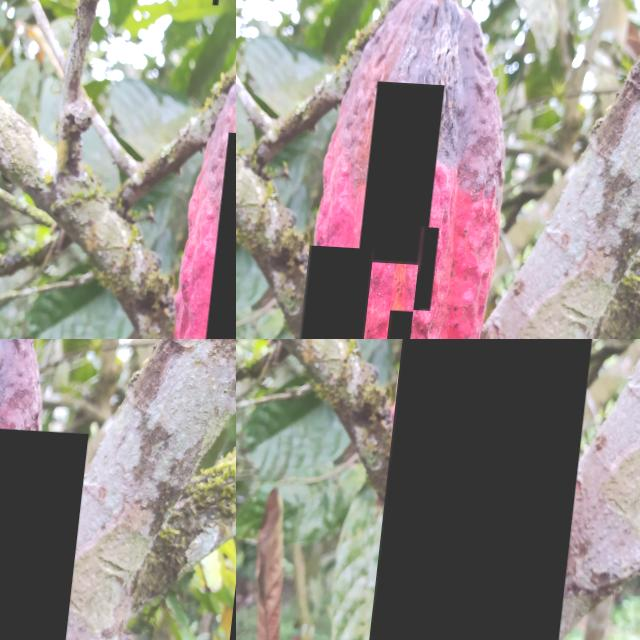Fitoftora: (379, 339, 614, 640), (0, 413, 94, 640), (299, 242, 381, 339), (423, 223, 446, 306)
Sana: (366, 78, 448, 261), (390, 306, 422, 339)
